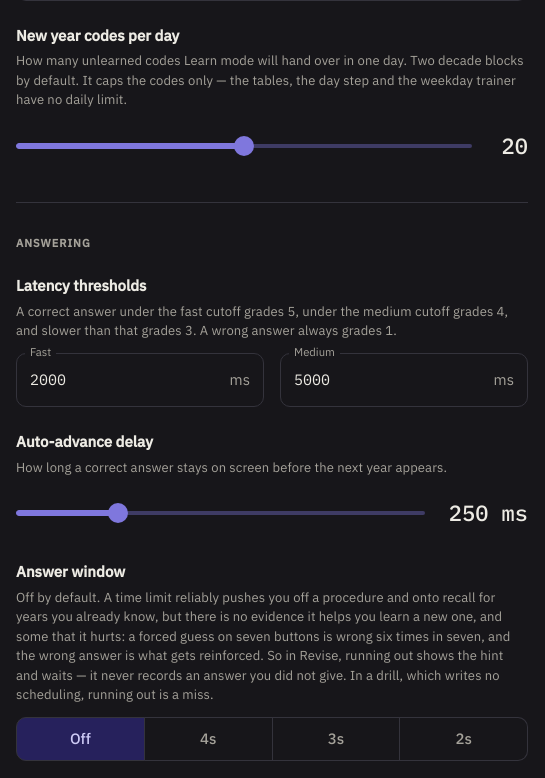
Test: Latency thresholds › pulls the fast cutoff down when medium is lowered below it
(page scrolled)
Step 1. Replace the text in the field labelled "Medium" with "1500" → {"x": 383, "y": 380}, box [280,352,486,407]
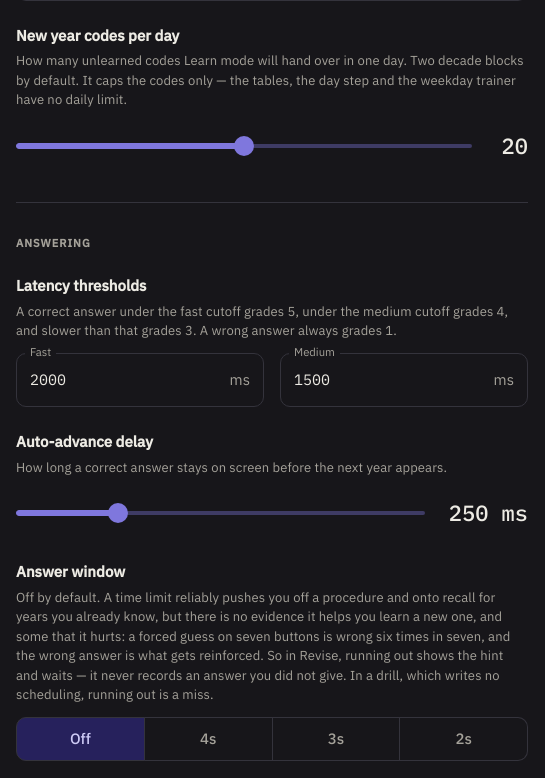
Step 2. Leave the field labelled "Medium", box [280,352,486,407]
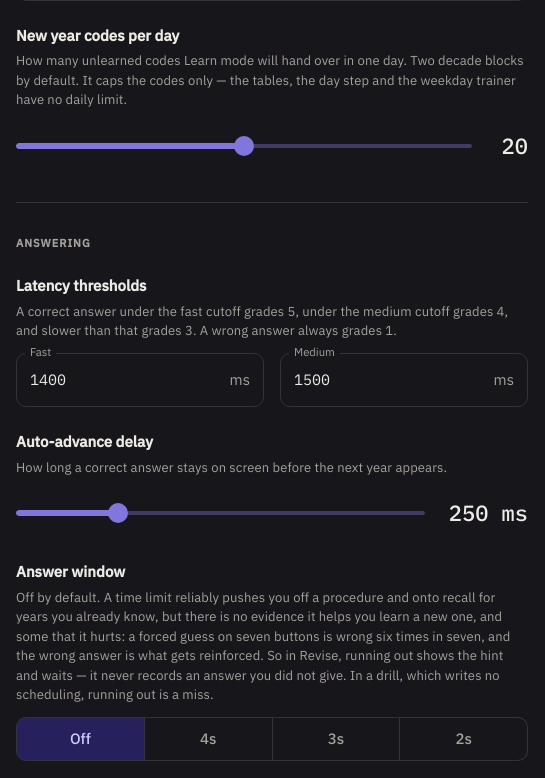
Result: the field labelled "Fast" holds "1400" at [16,352,222,407]
